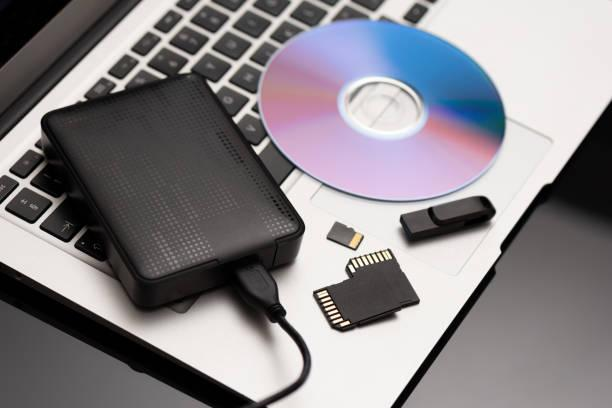HDD: (39, 73, 305, 309)
